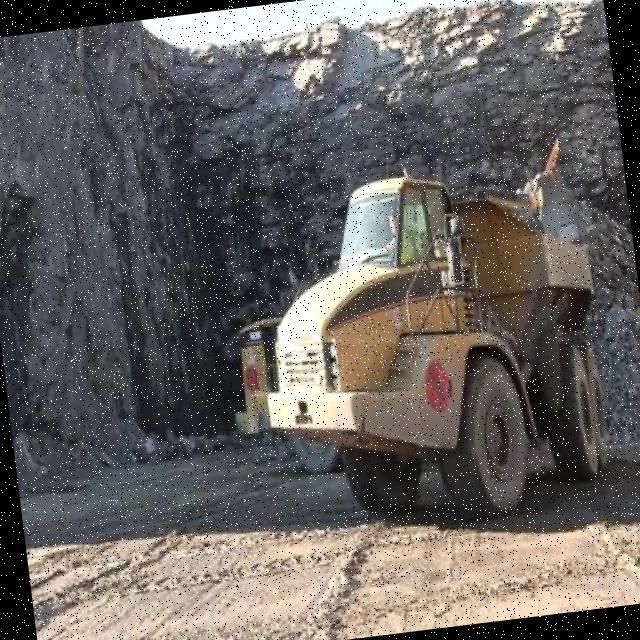Dump Truck: (240, 147, 618, 535)
